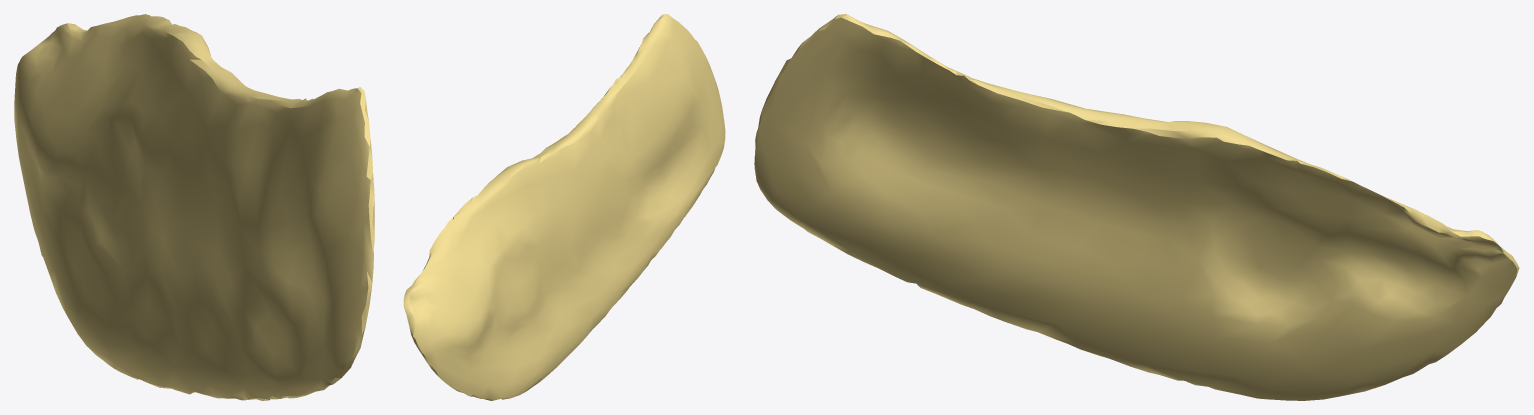
File: fma84354_fj7499.glb
3 renders of one model, left to right at view 1: azimuth 30°, elevation 25°; view 2: azimuth 150°, elevation 25°; view 3: azimuth 270°, elevation 25°, orthographic. The views are drawn at different scales.
Parts seen in each view (by area): view 1: FMA84354_FJ7499; view 2: FMA84354_FJ7499; view 3: FMA84354_FJ7499.
Part boxes in pixels (x1=…): FMA84354_FJ7499: x1=14, y1=14, x2=374, y2=400; FMA84354_FJ7499: x1=403, y1=14, x2=725, y2=400; FMA84354_FJ7499: x1=754, y1=14, x2=1519, y2=400.
Bounding box in the file's own units: 0.00245 × 0.00771 × 0.0136.
